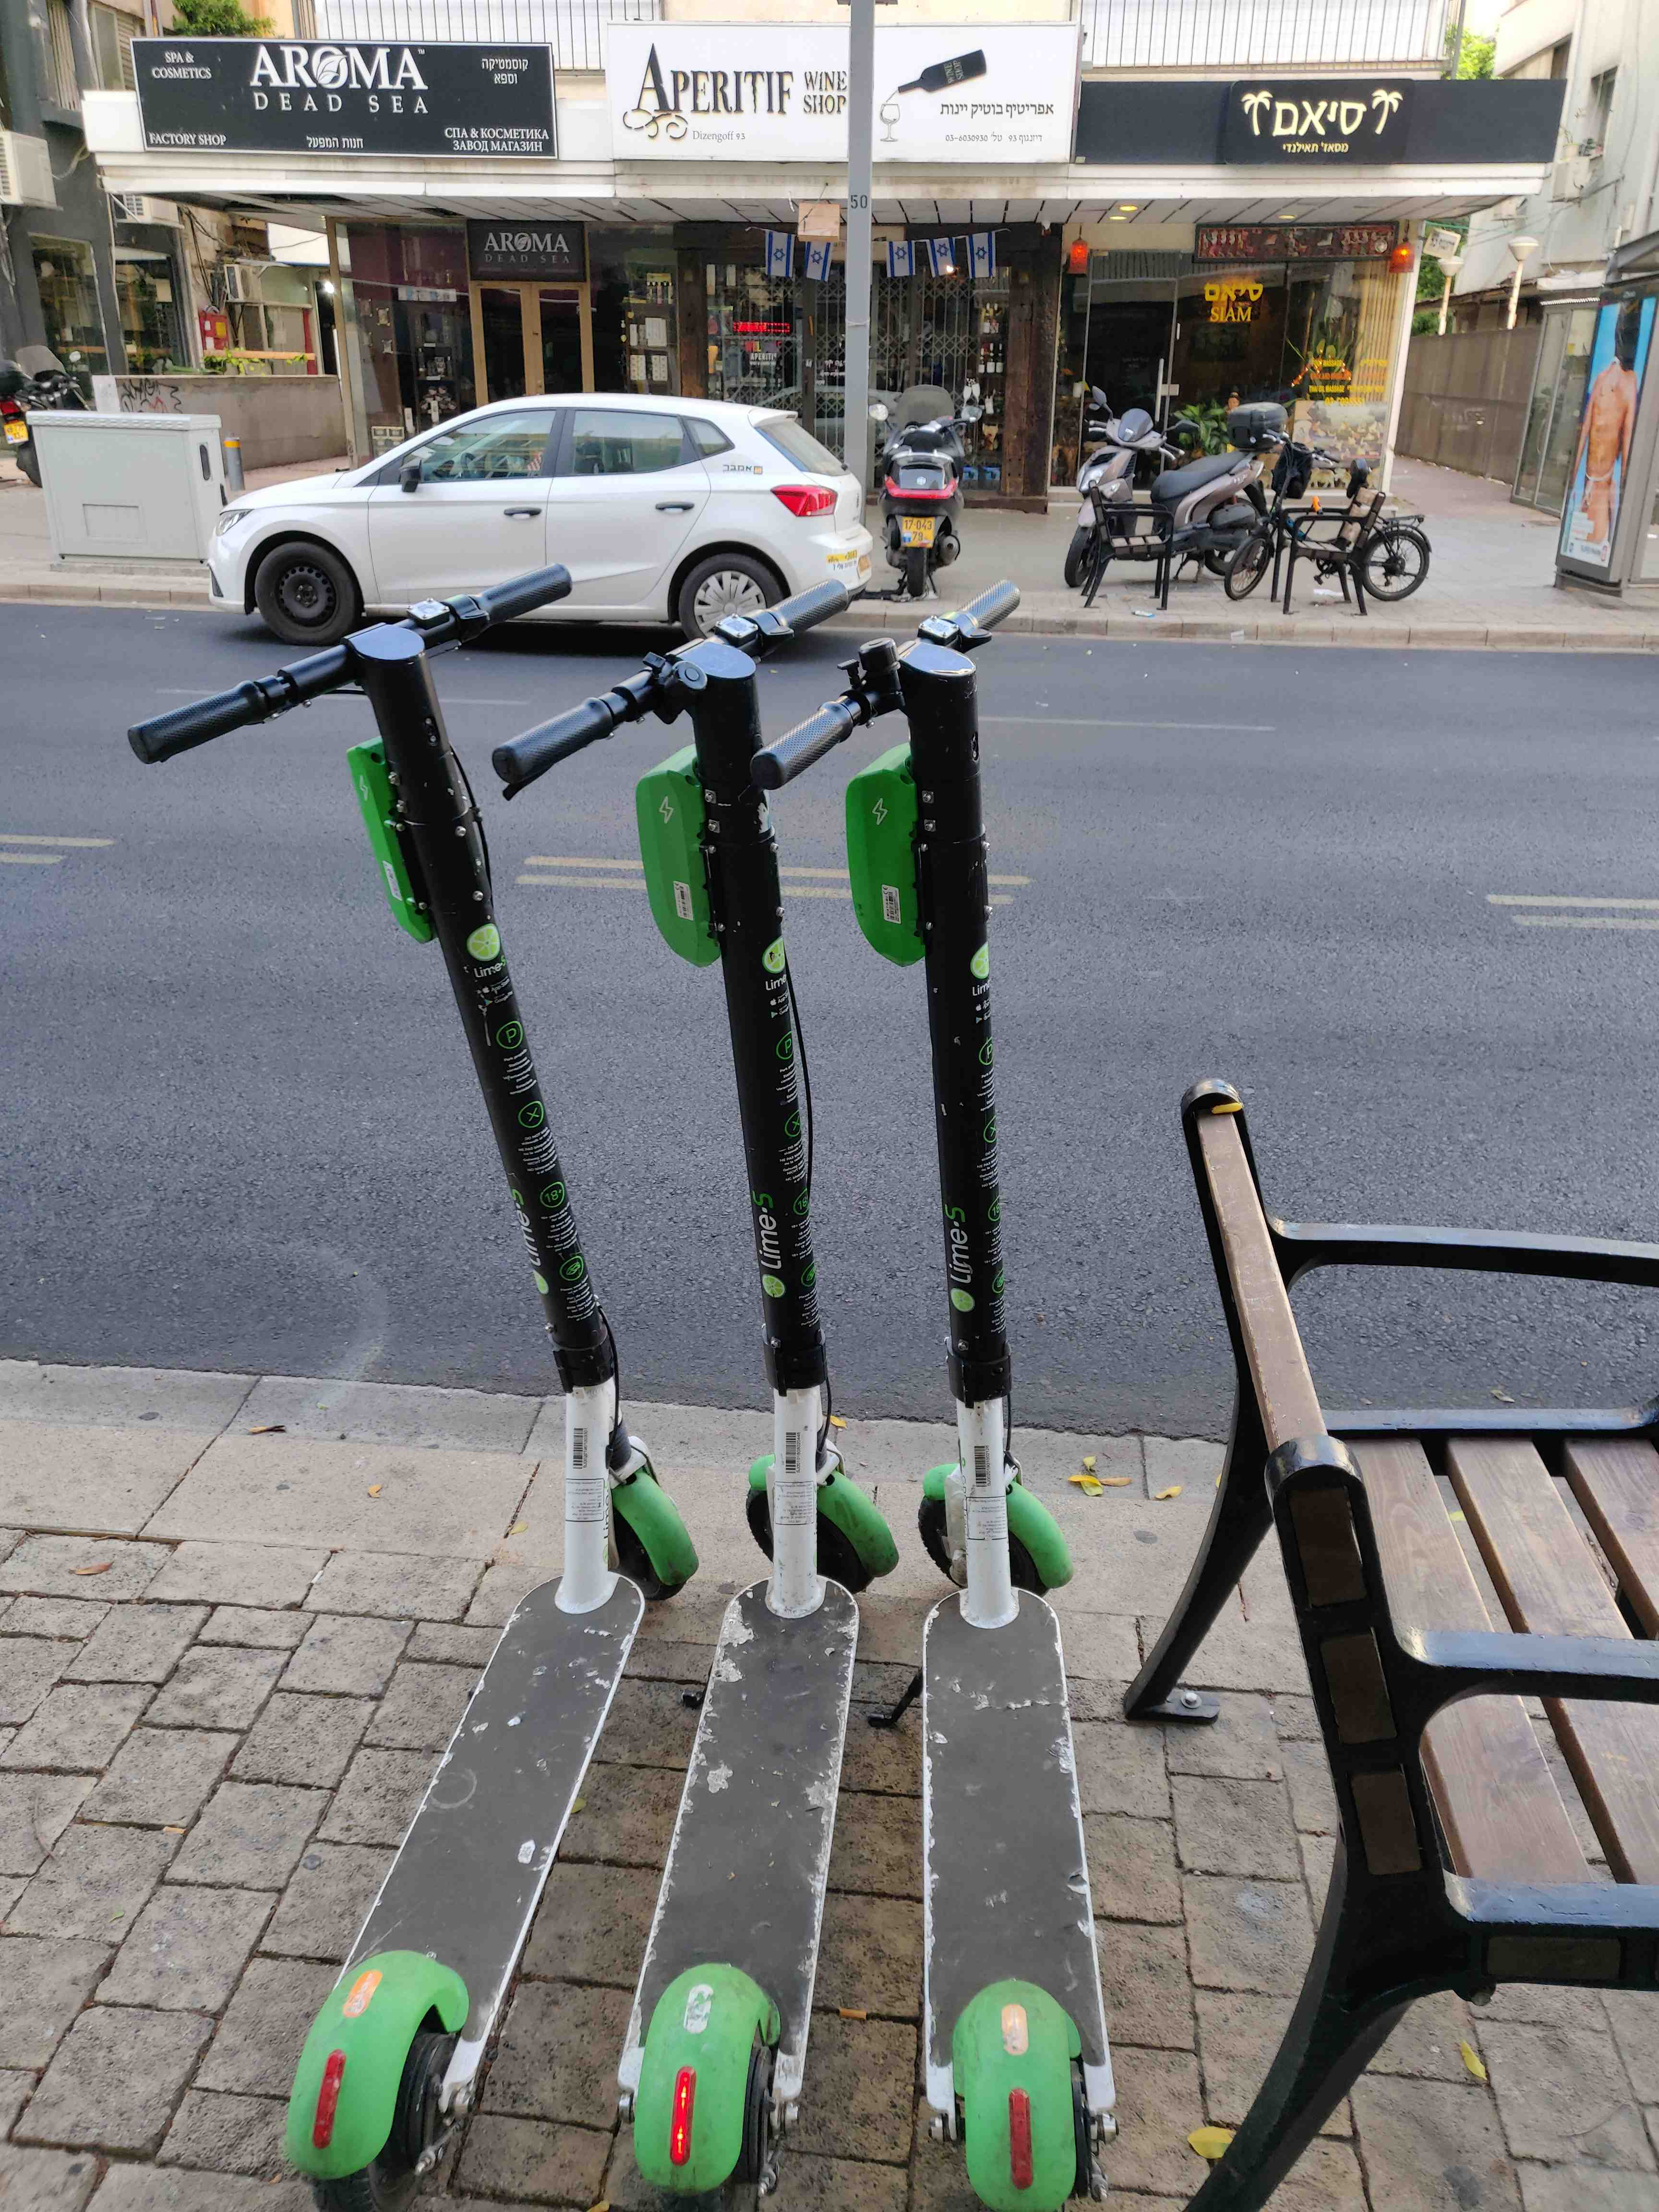too close: (690, 1371, 922, 1726), (884, 1390, 1127, 1707), (457, 1366, 714, 1665)
